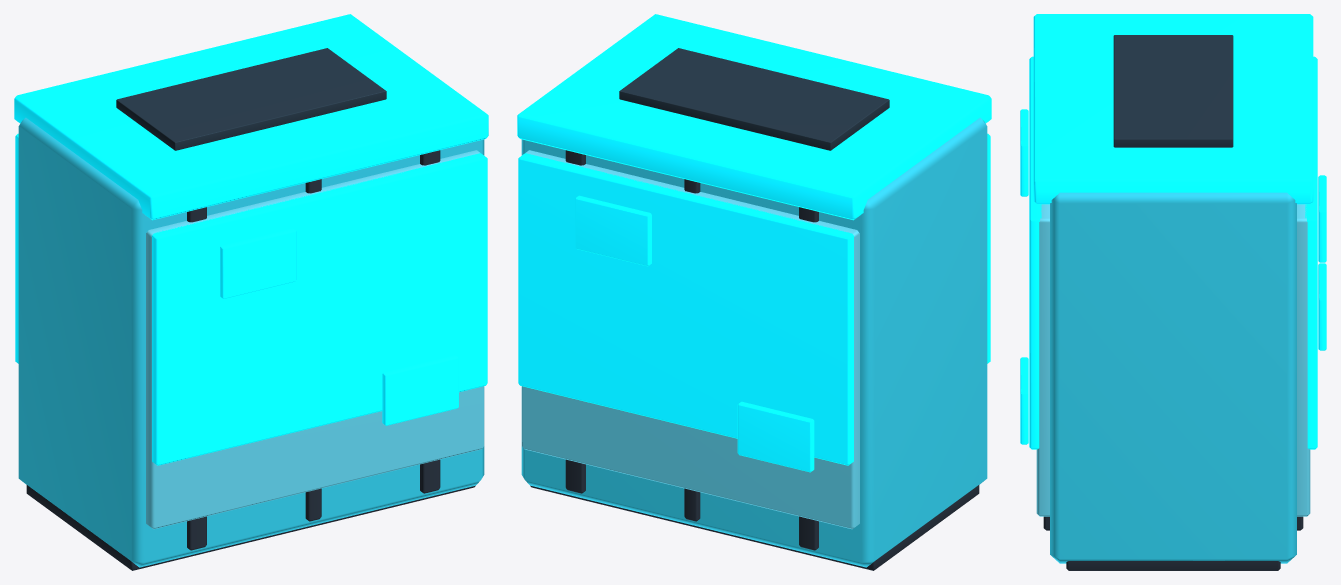
Rendered from track_rail.glb.
3 renders of one model, left to right at view 1: azimuth 30°, elevation 25°; view 2: azimuth 150°, elevation 25°; view 3: azimuth 270°, elevation 25°, orthographic.
Parts seen in each view (by area): view 1: RailInnerGlow, RailCore, RailTopLip, RailInnerGlass, RailTopDarkSlot, RailInnerPulseA, RailInnerPulseB, RailLowerShadow, RailOuterGlow, RailBraceC, RailBraceA, RailBraceB; view 2: RailOuterGlow, RailCore, RailTopLip, RailOuterGlass, RailTopDarkSlot, RailOuterPulseA, RailOuterPulseB, RailLowerShadow, RailInnerGlow, RailBraceC, RailBraceA, RailBraceB; view 3: RailCore, RailTopLip, RailTopDarkSlot, RailOuterGlass, RailInnerGlass, RailInnerGlow, RailOuterGlow, RailLowerShadow, RailInnerPulseA, RailInnerPulseB, RailOuterPulseA, RailOuterPulseB.
Boxes of the visible parts, left/top/right/bottom form: RailInnerGlow: left=151, top=153, right=487, bottom=465; RailCore: left=18, top=117, right=484, bottom=567; RailTopLip: left=14, top=14, right=488, bottom=220; RailInnerGlass: left=146, top=150, right=484, bottom=529; RailTopDarkSlot: left=116, top=48, right=386, bottom=150; RailInnerPulseA: left=220, top=228, right=296, bottom=298; RailInnerPulseB: left=382, top=355, right=458, bottom=425; RailLowerShadow: left=26, top=485, right=475, bottom=570; RailOuterGlow: left=15, top=133, right=18, bottom=363; RailBraceC: left=420, top=150, right=440, bottom=493; RailBraceA: left=187, top=207, right=206, bottom=550; RailBraceB: left=305, top=179, right=321, bottom=521; RailOuterGlow: left=518, top=153, right=854, bottom=465; RailCore: left=521, top=117, right=987, bottom=567; RailTopLip: left=517, top=14, right=991, bottom=220; RailOuterGlass: left=521, top=150, right=859, bottom=529; RailTopDarkSlot: left=619, top=48, right=889, bottom=150; RailOuterPulseA: left=737, top=401, right=814, bottom=472; RailOuterPulseB: left=575, top=195, right=651, bottom=266; RailLowerShadow: left=530, top=485, right=979, bottom=570; RailInnerGlow: left=987, top=133, right=990, bottom=363; RailBraceC: left=565, top=150, right=585, bottom=493; RailBraceA: left=799, top=207, right=818, bottom=550; RailBraceB: left=684, top=179, right=700, bottom=521; RailCore: left=1050, top=192, right=1296, bottom=563; RailTopLip: left=1033, top=14, right=1313, bottom=204; RailTopDarkSlot: left=1113, top=35, right=1233, bottom=147; RailOuterGlass: left=1297, top=204, right=1310, bottom=516; RailInnerGlass: left=1036, top=204, right=1049, bottom=516; RailInnerGlow: left=1029, top=56, right=1041, bottom=449; RailOuterGlow: left=1305, top=56, right=1317, bottom=449; RailLowerShadow: left=1066, top=561, right=1280, bottom=570; RailInnerPulseA: left=1020, top=109, right=1028, bottom=196; RailInnerPulseB: left=1020, top=357, right=1028, bottom=444; RailOuterPulseA: left=1318, top=263, right=1326, bottom=350; RailOuterPulseB: left=1318, top=175, right=1326, bottom=262.
Bounding box in the file's own units: 0.5 × 0.536 × 0.372.
